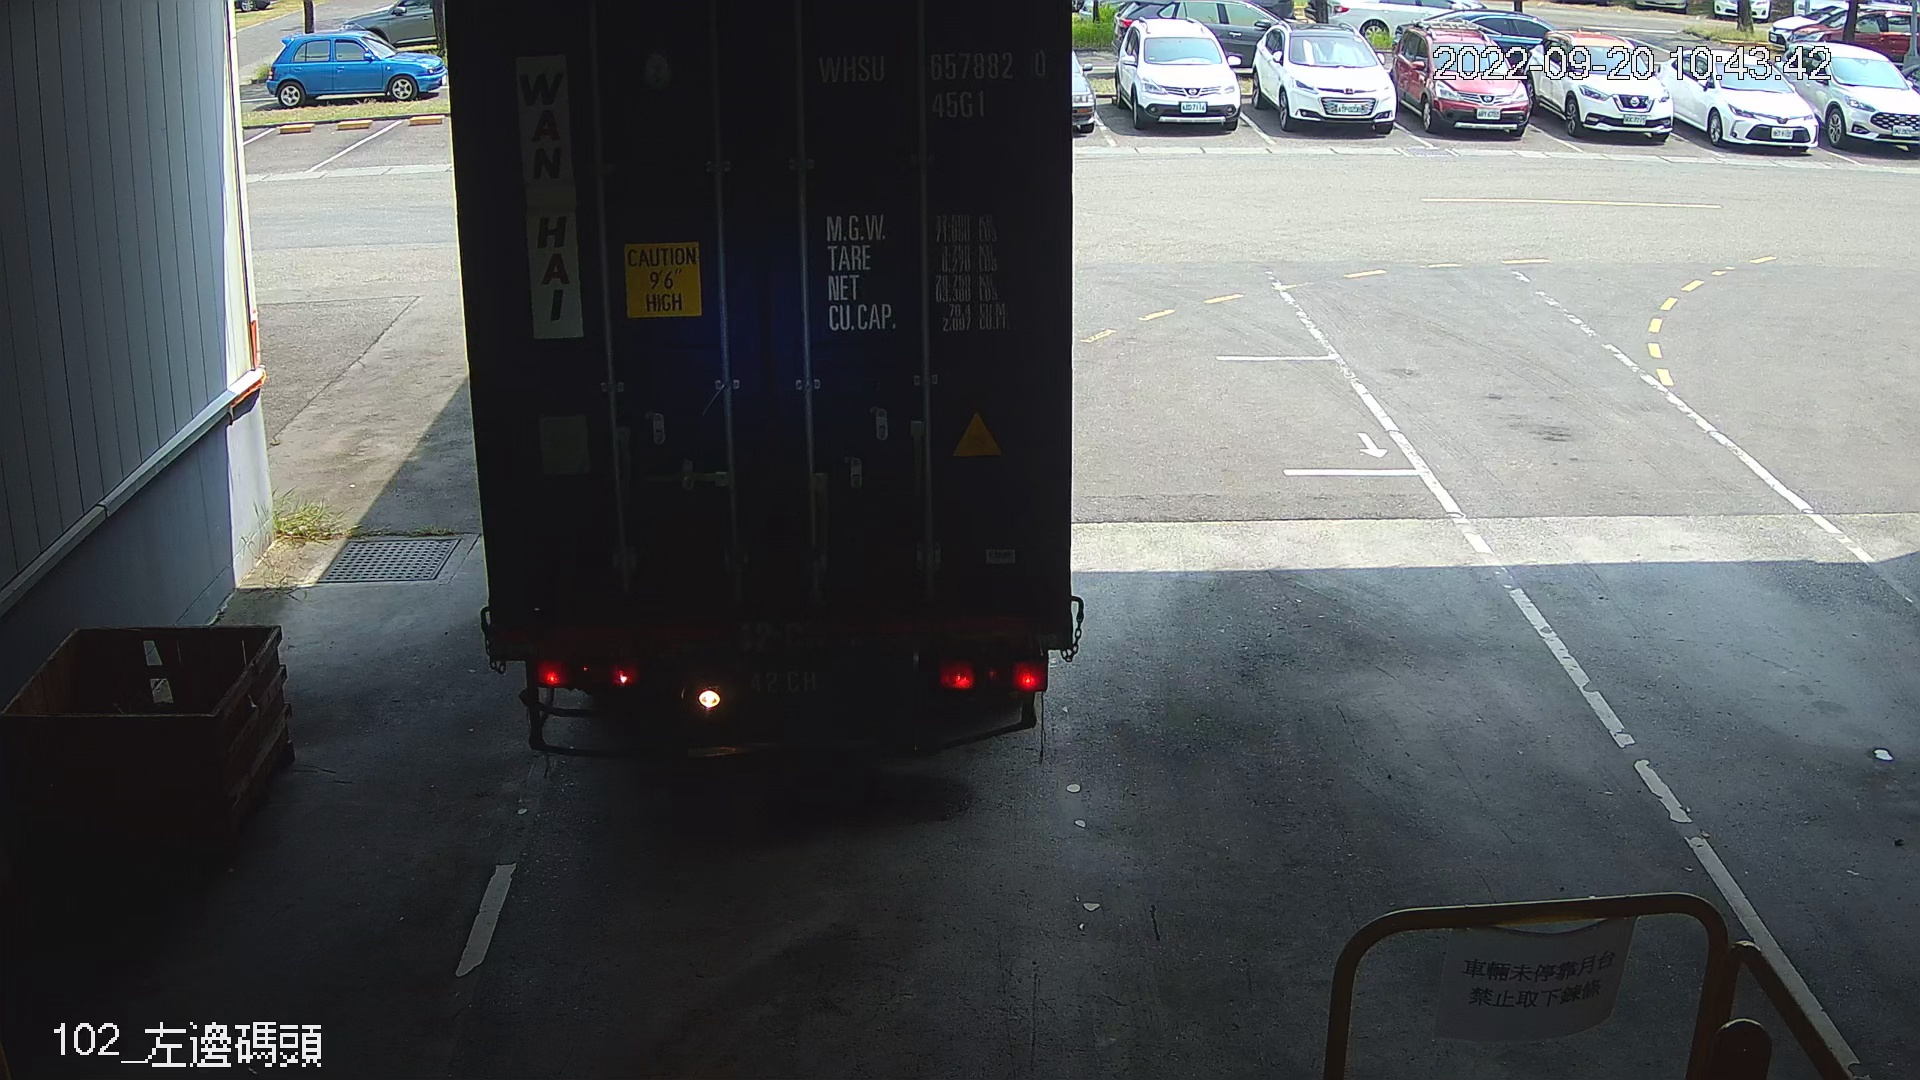container: (808, 42, 1054, 127)
